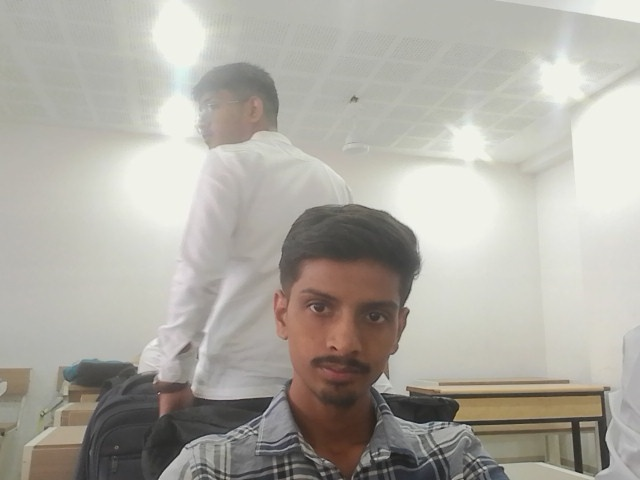fan_on: (339, 94, 369, 155)
light_on: (143, 16, 207, 164), (404, 128, 530, 182), (536, 67, 601, 110)
person: (154, 202, 513, 479), (135, 69, 359, 477)
